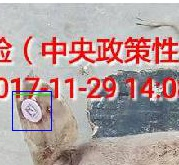text: (12, 94, 51, 130)
